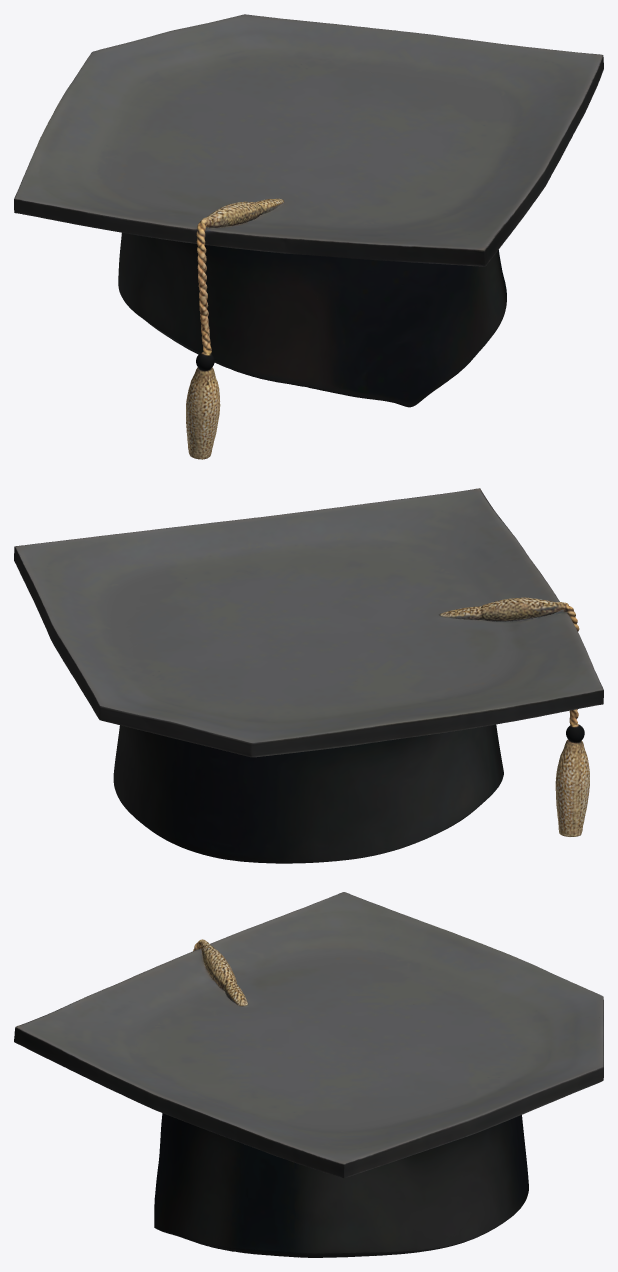
Rendered from graduation_cap_with_tassel.glb.
3 renders of one model, top to bottom at view 1: azimuth 30°, elevation 25°; view 2: azimuth 150°, elevation 25°; view 3: azimuth 270°, elevation 25°, orthographic. The views are drawn at different scales.
Visible parts, largest first — view 1: Object_4, Object_3, Object_6, Object_2, Object_5; view 2: Object_4, Object_3, Object_6, Object_2, Object_5; view 3: Object_4, Object_5, Object_3, Object_6, Object_2.
Boxes of the visible parts, left/top/right/bottom form: Object_4: left=61, top=14, right=572, bottom=459; Object_3: left=14, top=60, right=325, bottom=368; Object_6: left=91, top=14, right=603, bottom=406; Object_2: left=48, top=22, right=595, bottom=387; Object_5: left=351, top=25, right=603, bottom=400; Object_4: left=22, top=508, right=589, bottom=861; Object_3: left=222, top=579, right=603, bottom=861; Object_6: left=14, top=488, right=557, bottom=863; Object_2: left=16, top=523, right=602, bottom=862; Object_5: left=17, top=518, right=328, bottom=863; Object_4: left=108, top=939, right=603, bottom=1243; Object_5: left=148, top=1000, right=603, bottom=1257; Object_3: left=151, top=892, right=586, bottom=1066; Object_6: left=14, top=946, right=603, bottom=1257; Object_2: left=17, top=936, right=603, bottom=1253.
Bounding box in the file's own units: 1.9 × 0.7226 × 1.74.
Materials: 1 (1 with a texture image).
